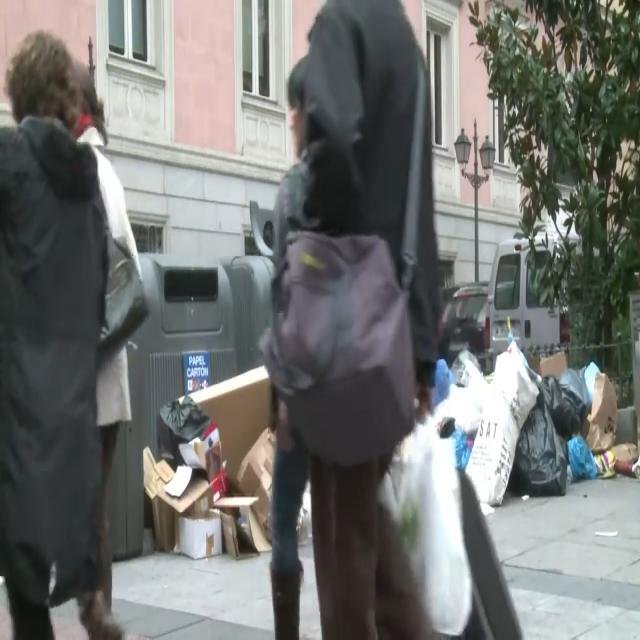high trash: (435, 340, 638, 513), (142, 367, 275, 558)
